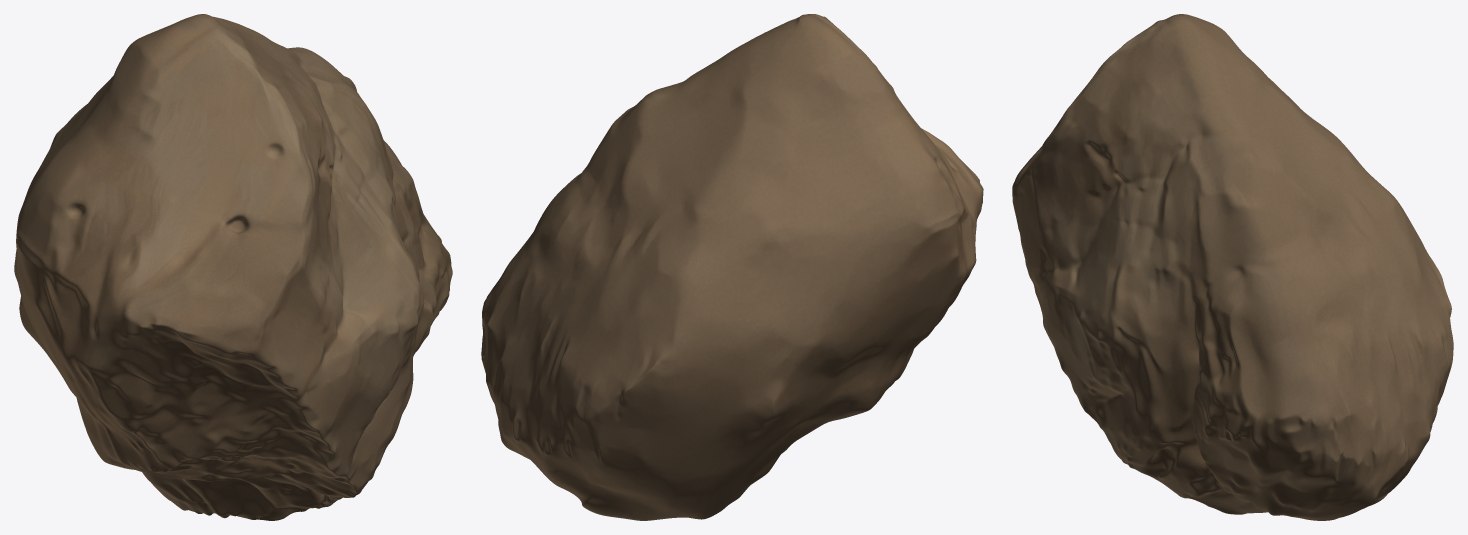
File: Meshy_AI_Smoky_Quartz_Shard_1021041058_texture.fbx
3 views of the same model, side by side, from view 1: azimuth 30°, elevation 25°; view 2: azimuth 150°, elevation 25°; view 3: azimuth 270°, elevation 25° (orthographic). The views are drawn at different scales.
Parts seen in each view (by area): view 1: Mesh_0; view 2: Mesh_0; view 3: Mesh_0.
Boxes of the visible parts, x1=… form: Mesh_0: x1=14, y1=14, x2=452, y2=520; Mesh_0: x1=481, y1=14, x2=983, y2=520; Mesh_0: x1=1012, y1=14, x2=1453, y2=520.
Size of the model in its own units: 173 by 190 by 170.
1 material, 1 textured.
